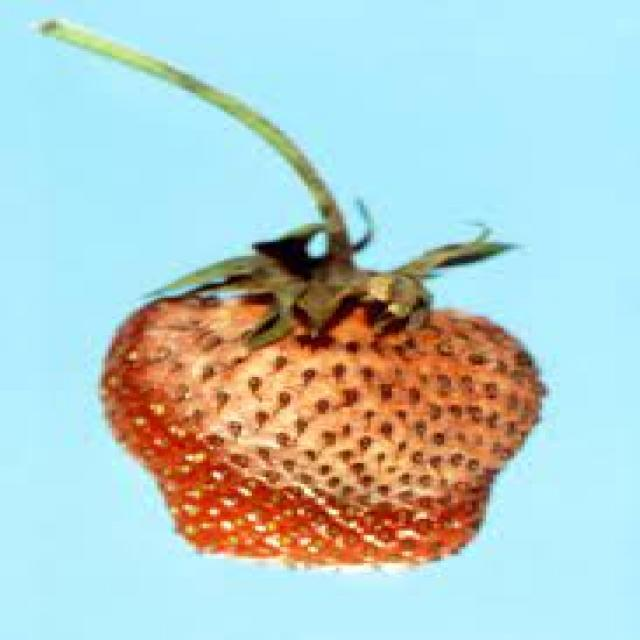Podredumbre de cuero: (113, 252, 546, 571)
